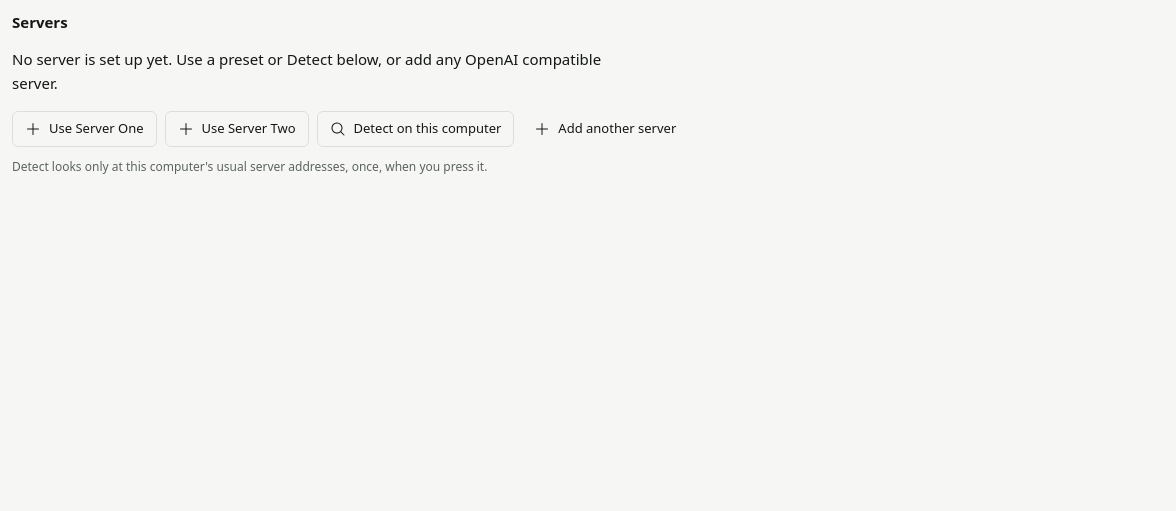
it: the servers section › says in plain words why an address cannot be used, never echoing a password
The width and height of the screenshot is (1176, 511).
Click the button with test id "endpoint-add-other".
click(605, 129)  # box x1=522 y1=111 x2=688 y2=147
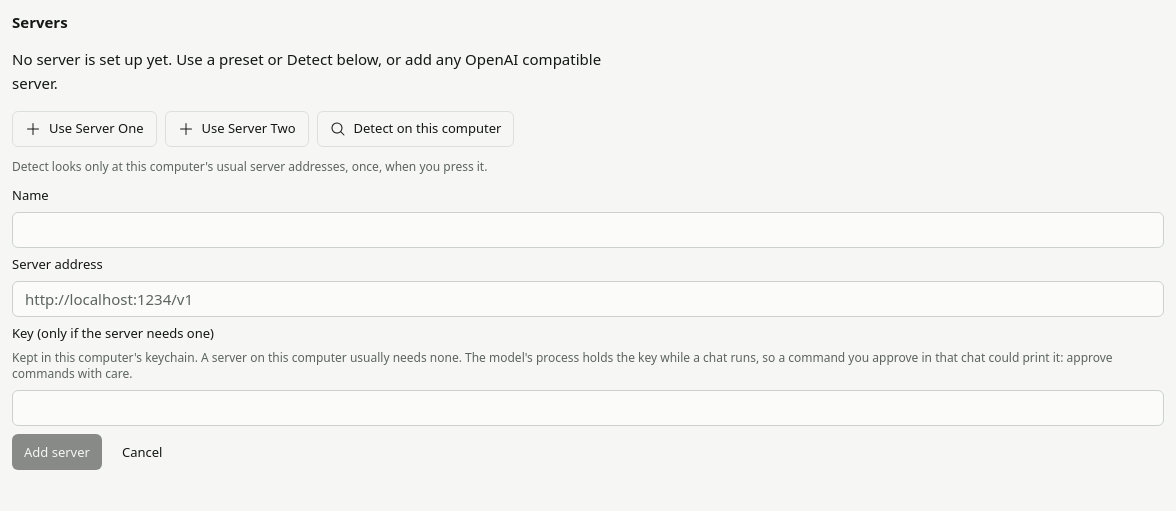
Type "http://me:hunter2@localhost:1234/v1" into the field labelled "Server address".
click(588, 299); type("http://me:hunter2@localhost:1234/v1")  # box x1=12 y1=281 x2=1164 y2=317
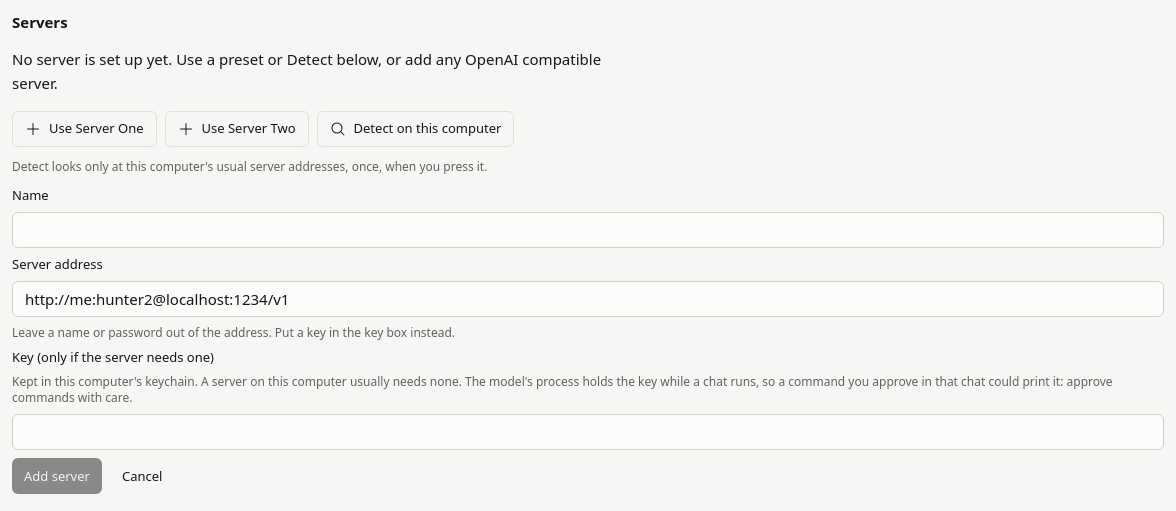
expect the element with test id "endpoint-address-problem" does not show "hunter2": met
expect the message with test id "endpoint-address-problem" shows "key box": met, box x1=12 y1=324 x2=455 y2=341
